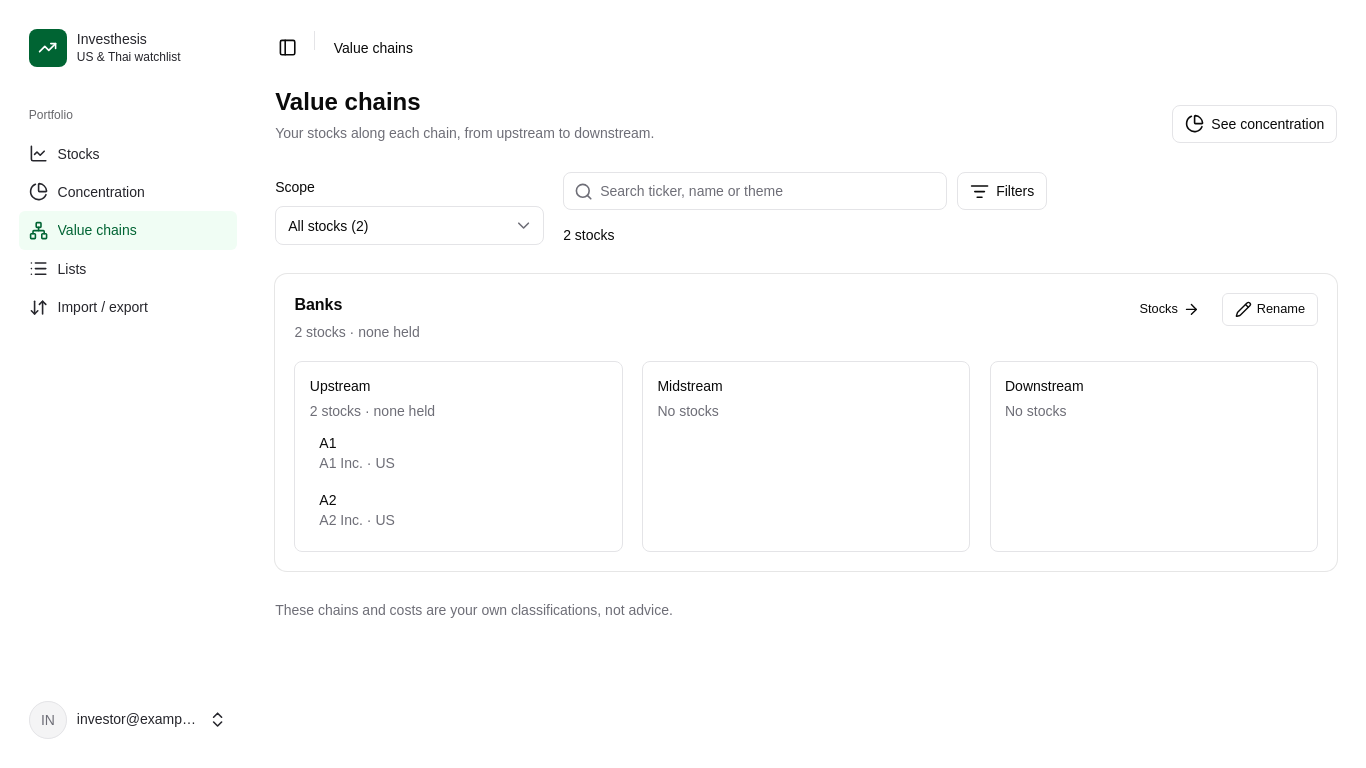
Scenario: rename through the real API client › TC-C-938 an expired token is refreshed once and the same rename body is sent again with the new token
Expected: the heading "Value chains" is shown, [275,88,421,115]
Click the button "Rename".
click(1270, 310)  # box [1222,293,1318,326]
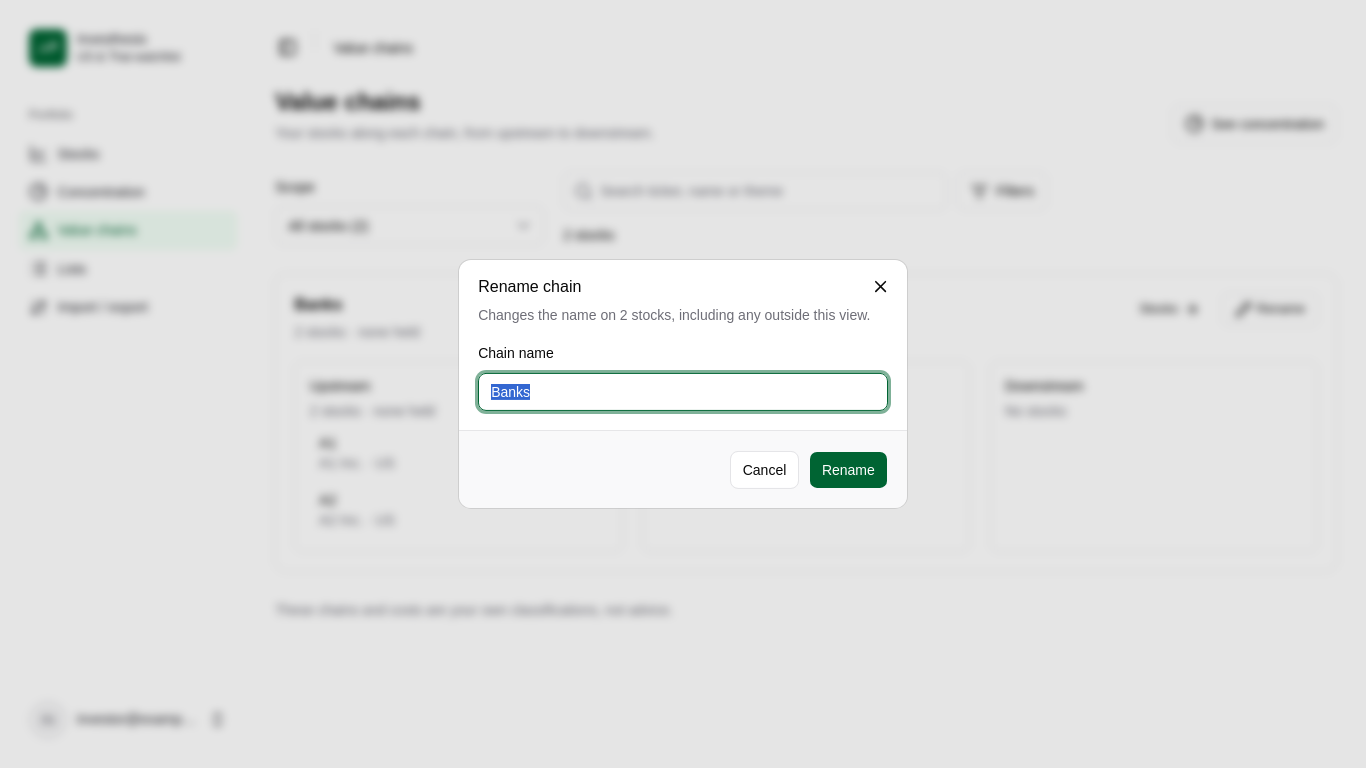
Replace the text in the field labelled "Chain name" with "Lenders" at point(683, 392), box [478,373,888,411]
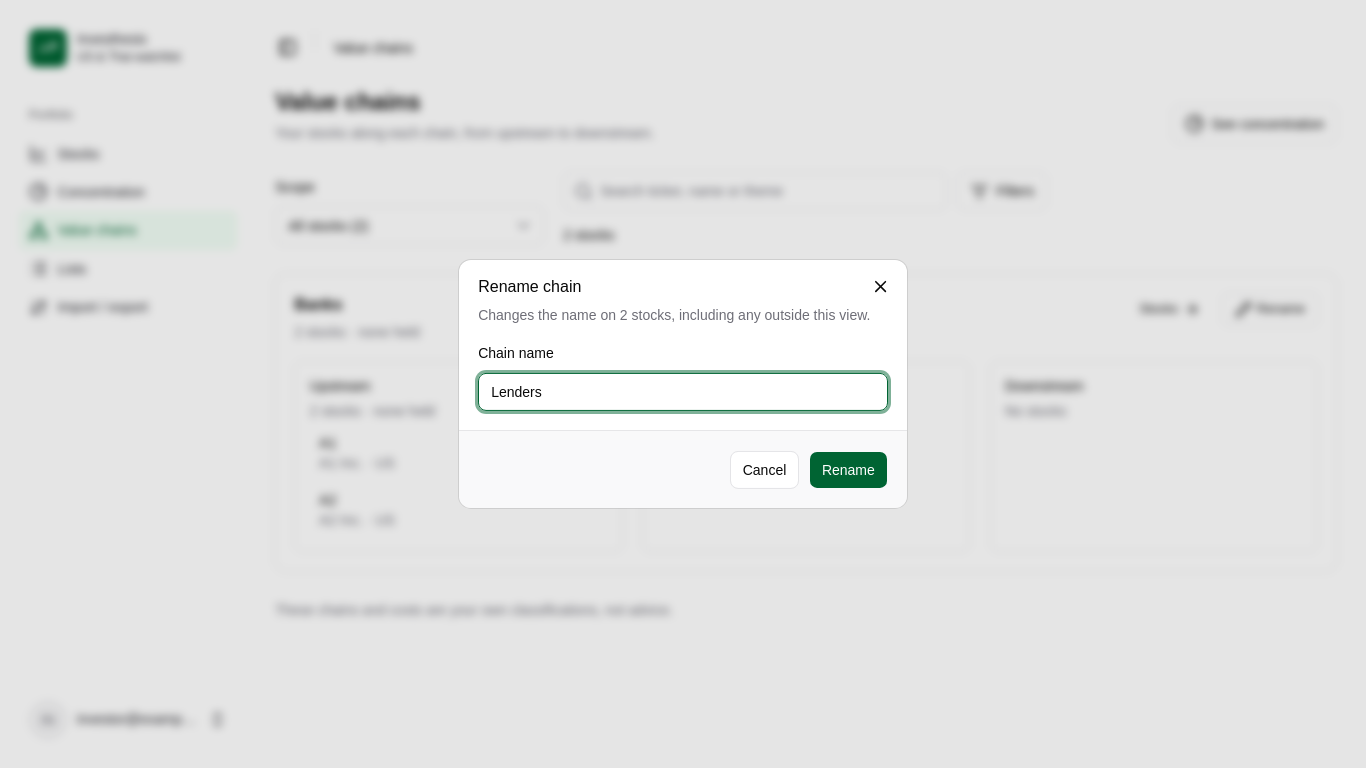
Click the button "Rename".
click(848, 470)  # box [809,450,888,489]
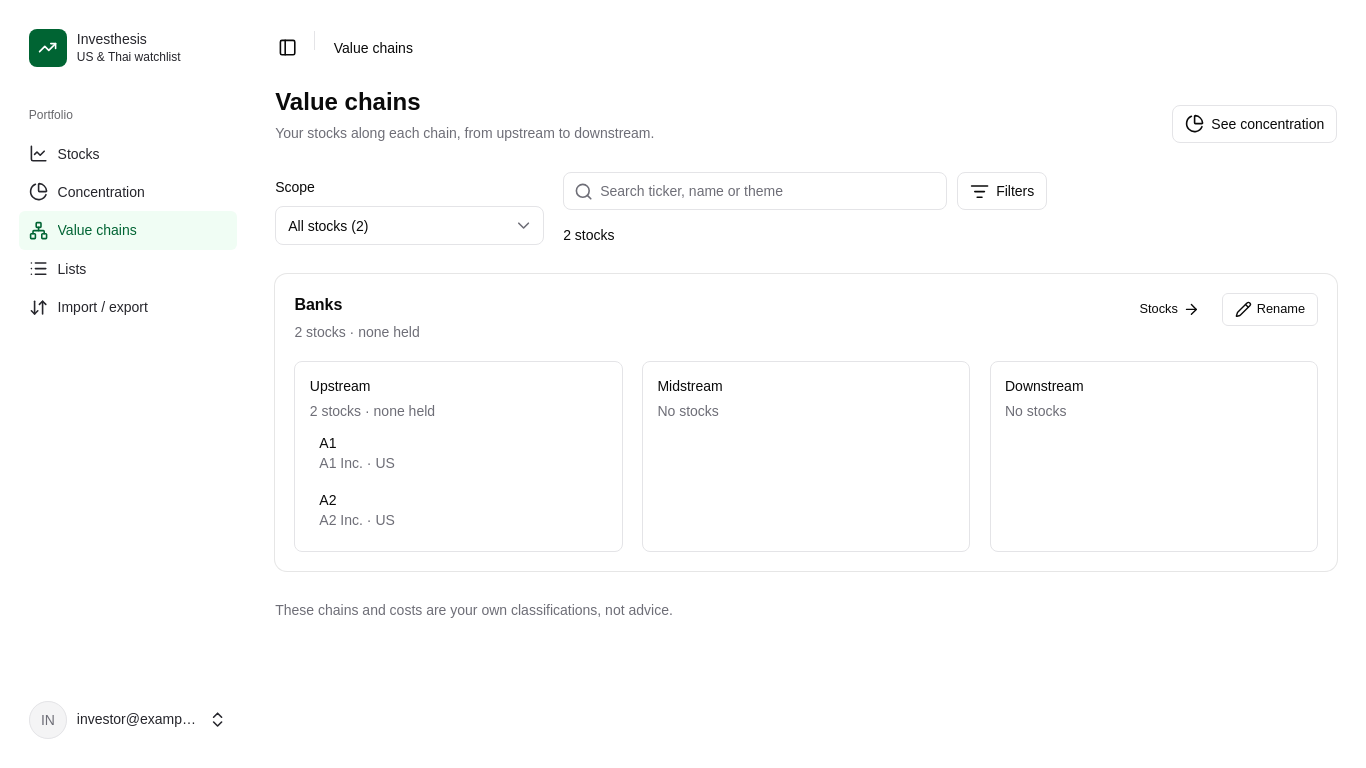
Result: the dialog is gone
